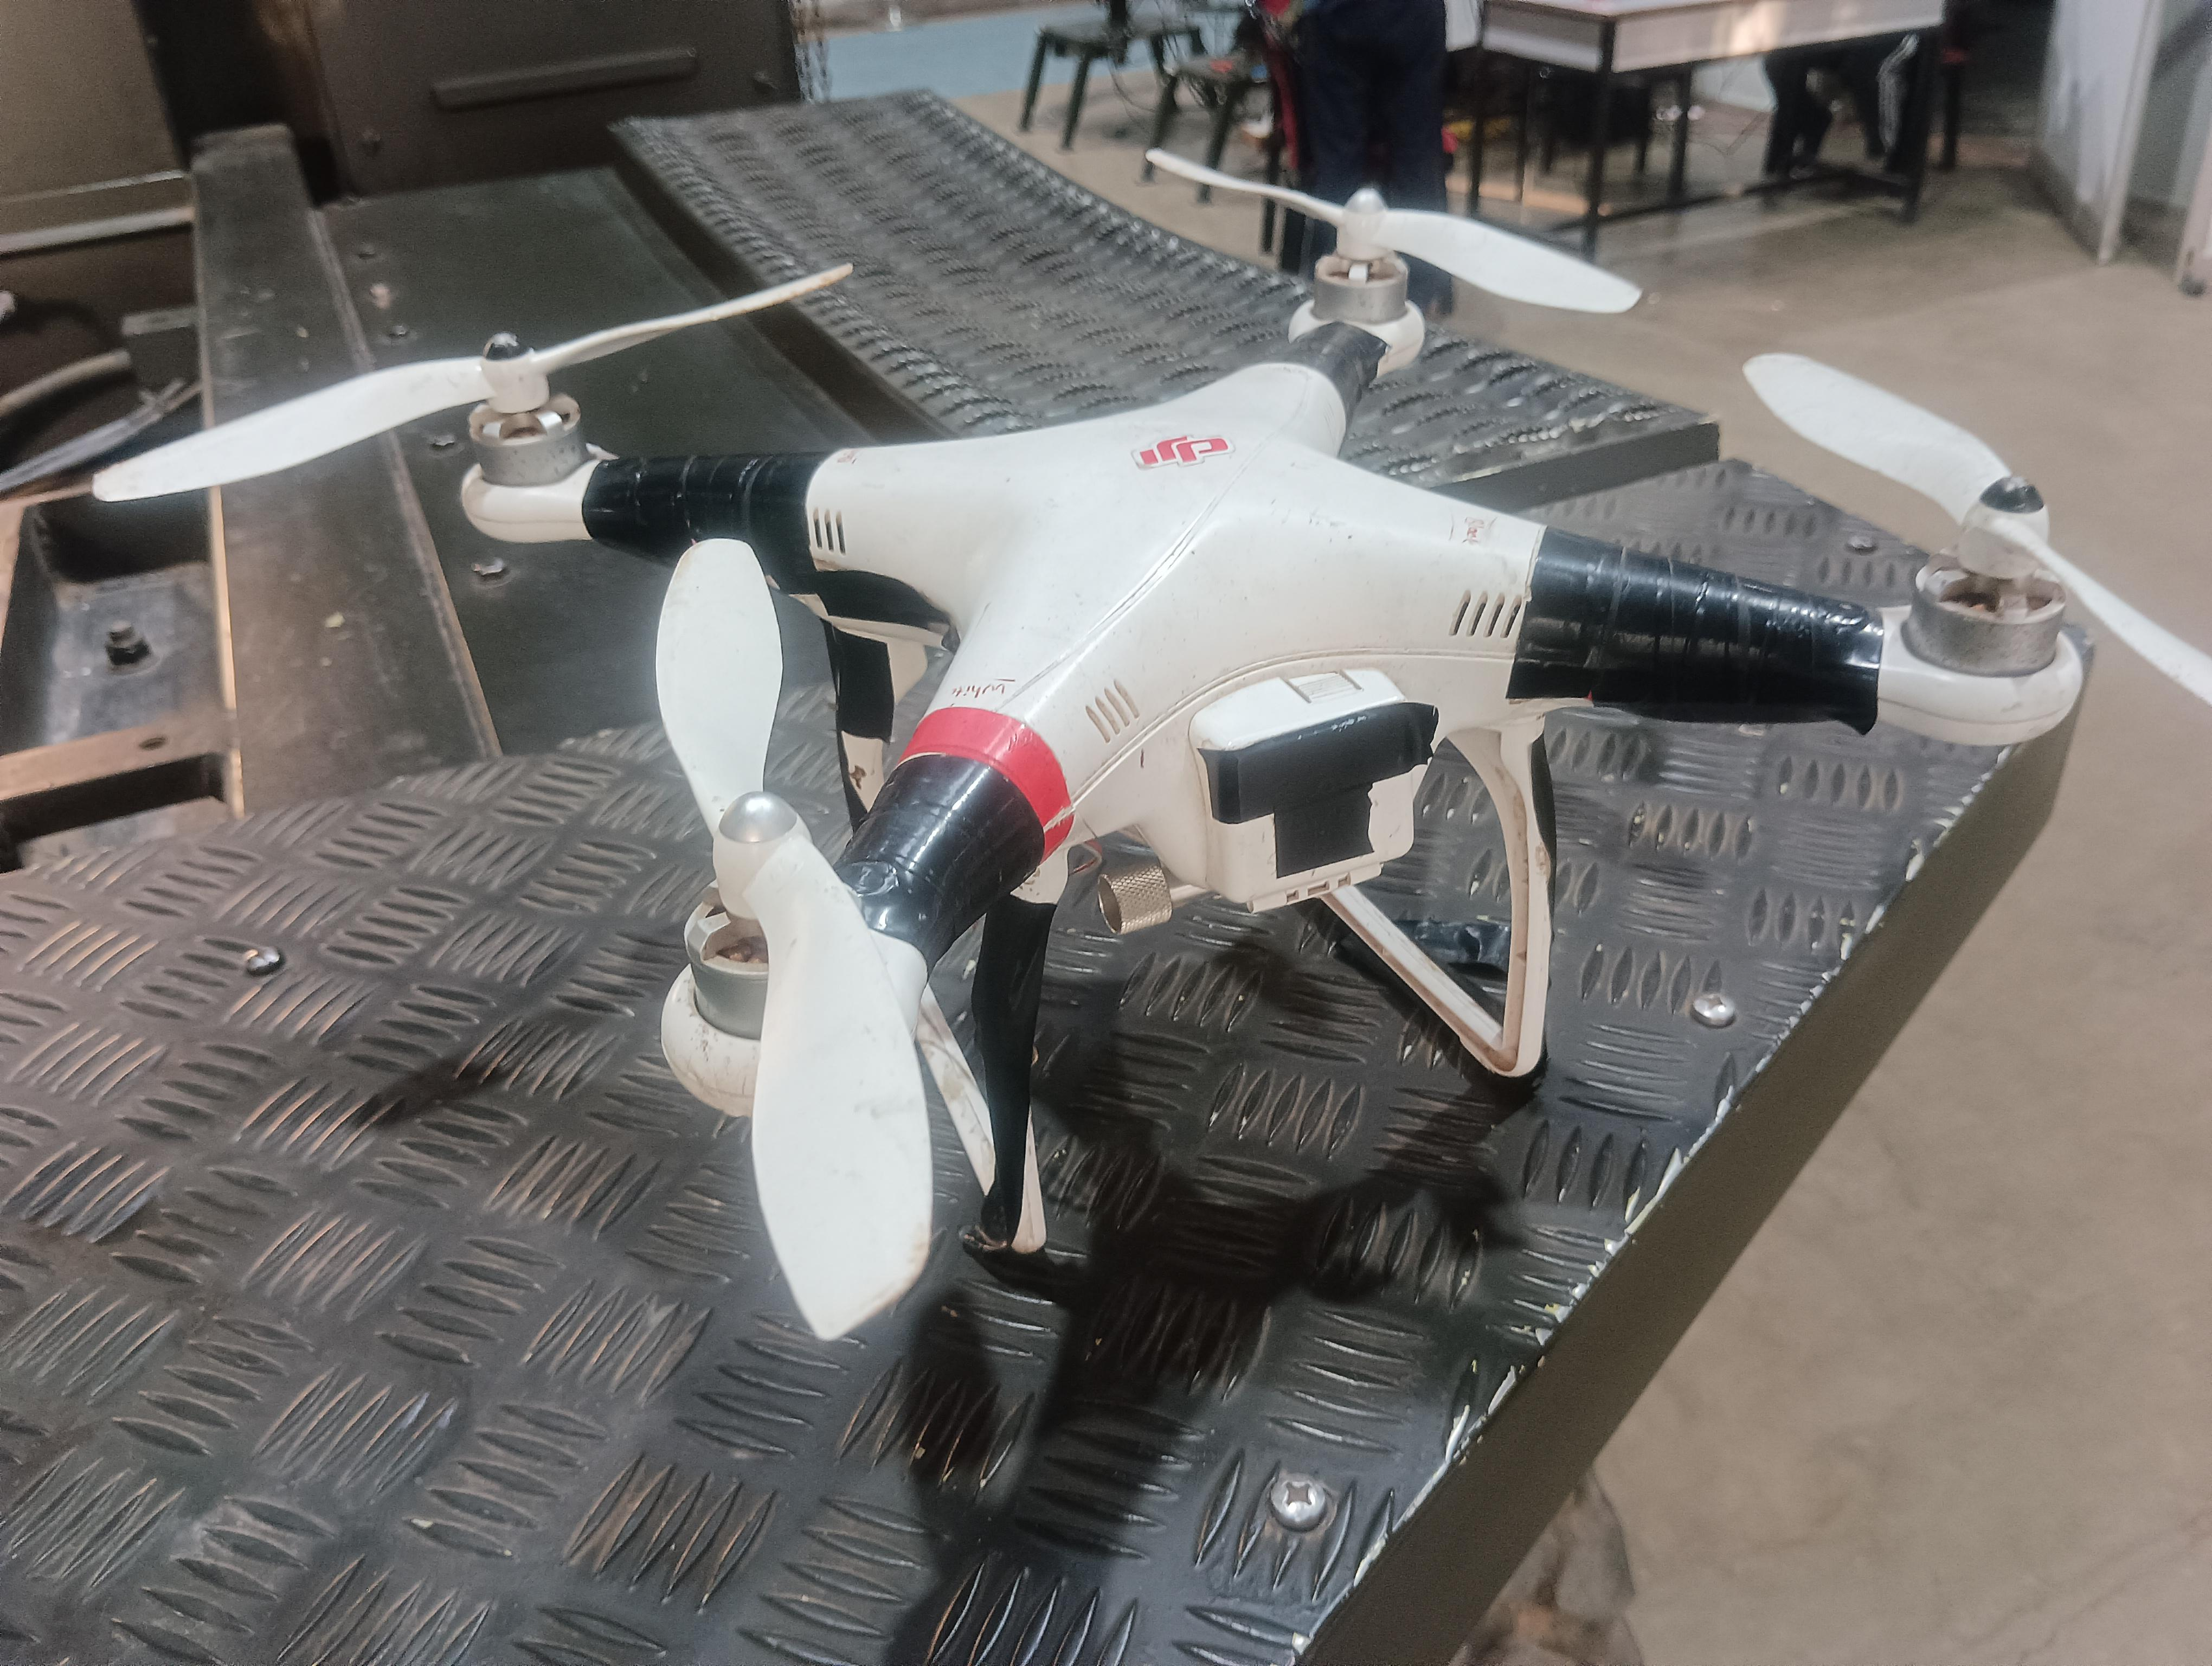drone: (423, 173, 2074, 1153)
